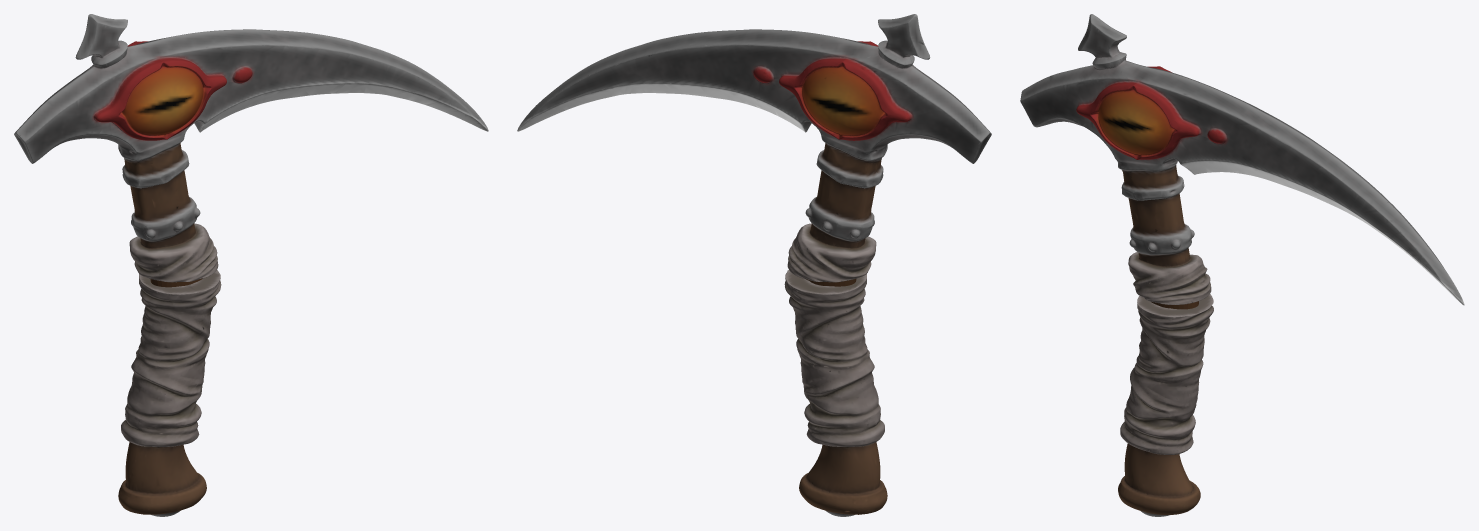
File: Prop - Scythe.glb
3 renders of one model, left to right at view 1: azimuth 30°, elevation 25°; view 2: azimuth 150°, elevation 25°; view 3: azimuth 330°, elevation 25°, orthographic. The views are drawn at different scales.
Visible parts, largest first — view 1: scythe head; view 2: scythe head; view 3: scythe head.
Part boxes in pixels (x1=…): scythe head: x1=14, y1=14, x2=488, y2=516; scythe head: x1=517, y1=14, x2=991, y2=516; scythe head: x1=1020, y1=14, x2=1464, y2=516.
Bounding box in the file's own units: 1.09 × 1.13 × 0.1647.
Materials: 2 (1 with a texture image).
